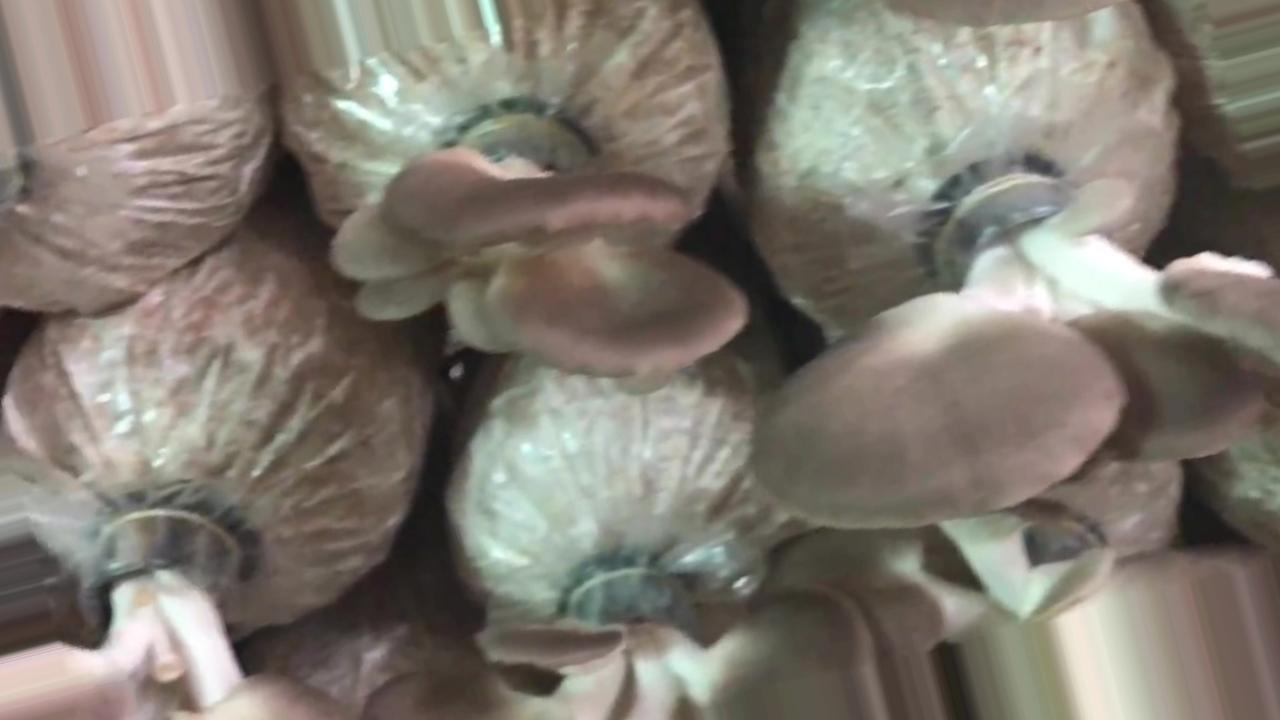nam: (750, 143, 1280, 536), (318, 102, 752, 381), (361, 570, 879, 720), (1, 506, 363, 720)
